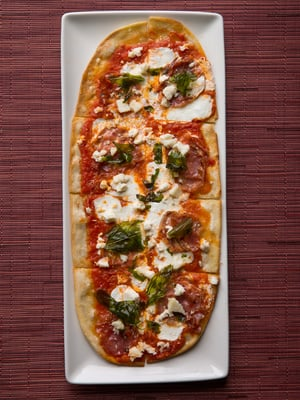sandwich: (67, 12, 222, 379)
